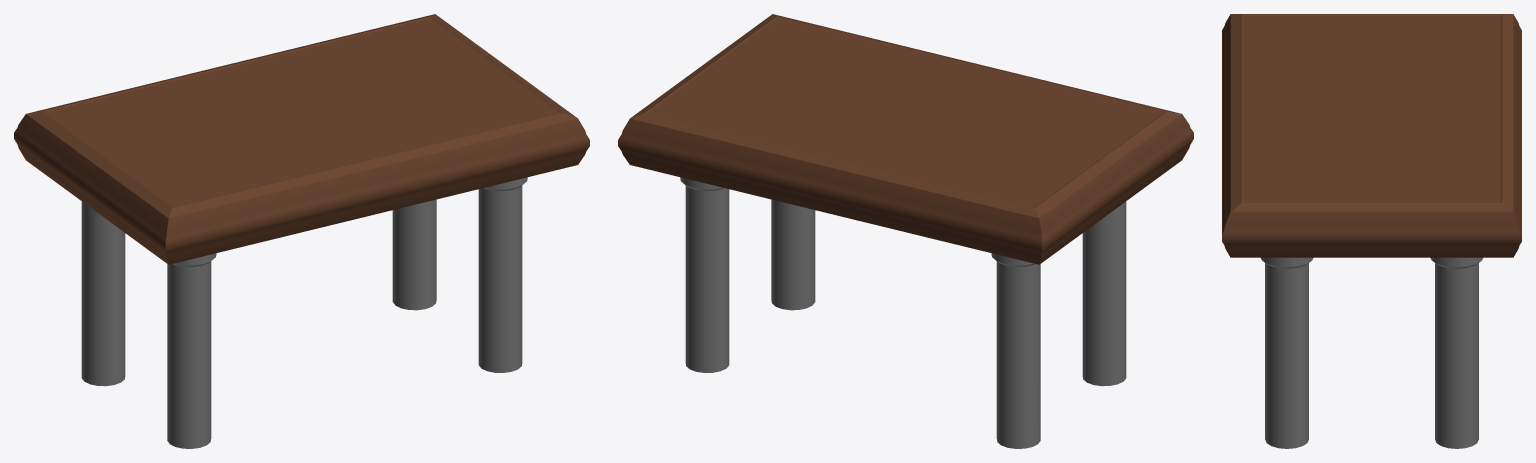
The model's file is table8.fbx.
3 renders of one model, left to right at view 1: azimuth 30°, elevation 25°; view 2: azimuth 150°, elevation 25°; view 3: azimuth 270°, elevation 25°, orthographic.
Parts seen in each view (by area): view 1: Table8; view 2: Table8; view 3: Table8.
Part boxes in pixels (x1=…): Table8: x1=14, y1=14, x2=589, y2=448; Table8: x1=618, y1=14, x2=1193, y2=448; Table8: x1=1222, y1=14, x2=1521, y2=448.
Size of the model in its own units: 134 by 77.85 by 82.78.
